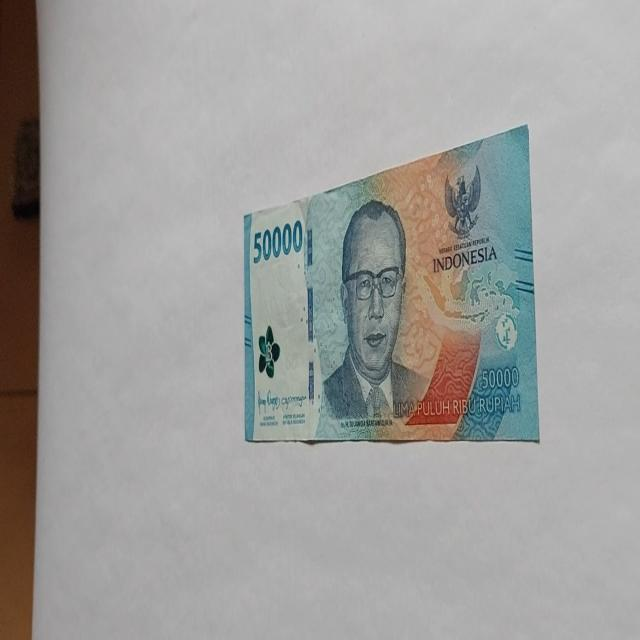lima puluh ribu rupiah: (242, 123, 540, 446), (316, 198, 430, 436)
